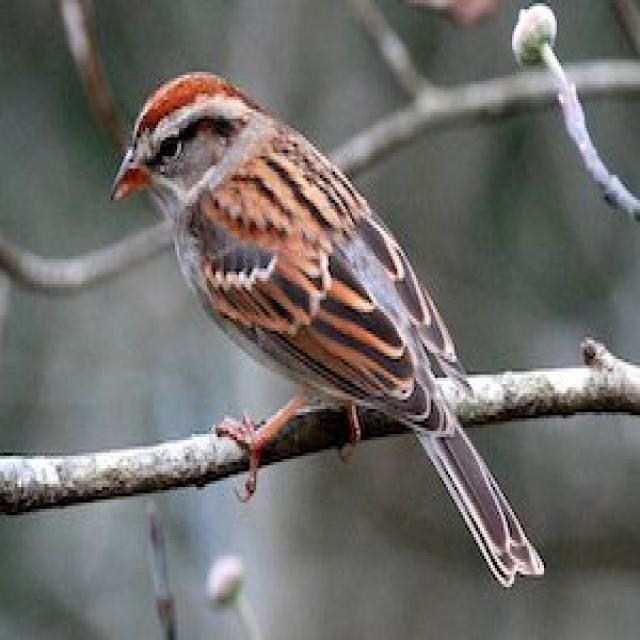sparrow: (113, 72, 542, 584)
